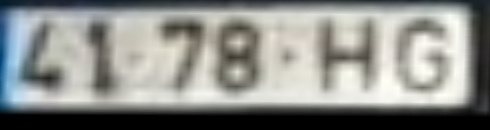1: (76, 15, 123, 103)
4: (14, 17, 70, 101)
7: (156, 18, 210, 98)
8: (211, 17, 271, 102)
G: (395, 17, 455, 98)
H: (316, 16, 384, 100)
